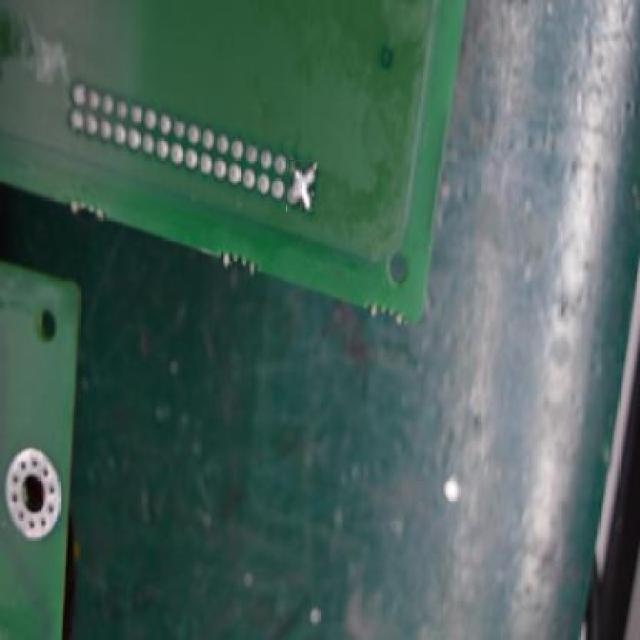Short_circuit: (286, 160, 316, 214)
